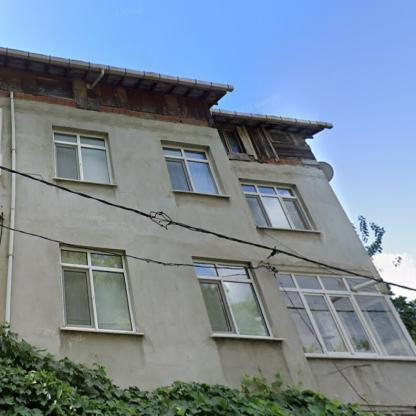window: (274, 273, 412, 358), (60, 248, 134, 331), (193, 263, 271, 336), (240, 183, 312, 230), (52, 130, 110, 184), (162, 146, 220, 194), (217, 129, 244, 152)
